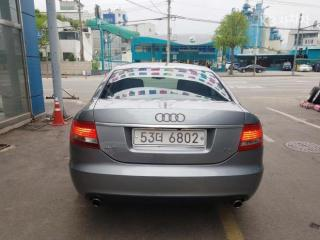0: (184, 132, 191, 144)
2: (191, 132, 199, 144)
3: (148, 132, 155, 143)
5: (140, 131, 148, 143)
6: (168, 132, 176, 144)
8: (176, 132, 184, 144)
더: (155, 132, 165, 143)
